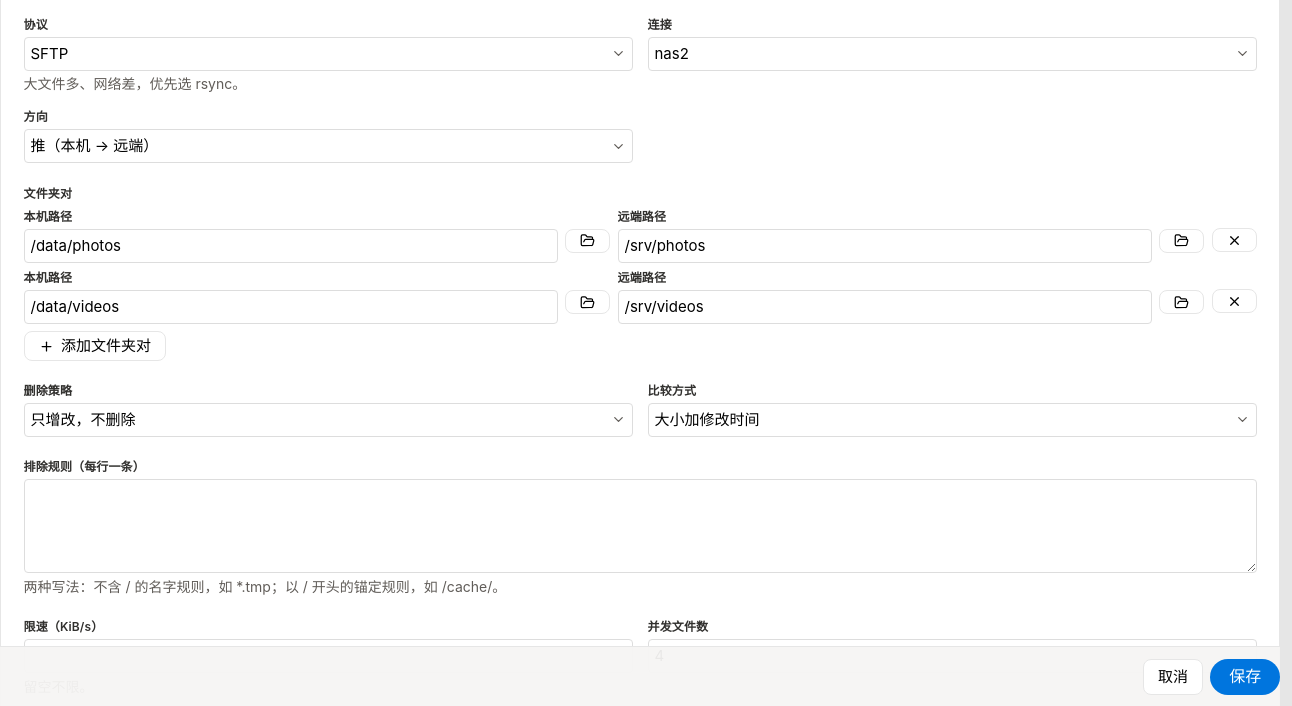
sync: folder pairs can be added and removed
(page scrolled)
Expected: the number of elements with test id "pair" is 2, [24,209,1256,263]; [24,270,1256,324]
Click the button "添加文件夹对" at (95, 346), box [24,331,166,361]
(page scrolled)
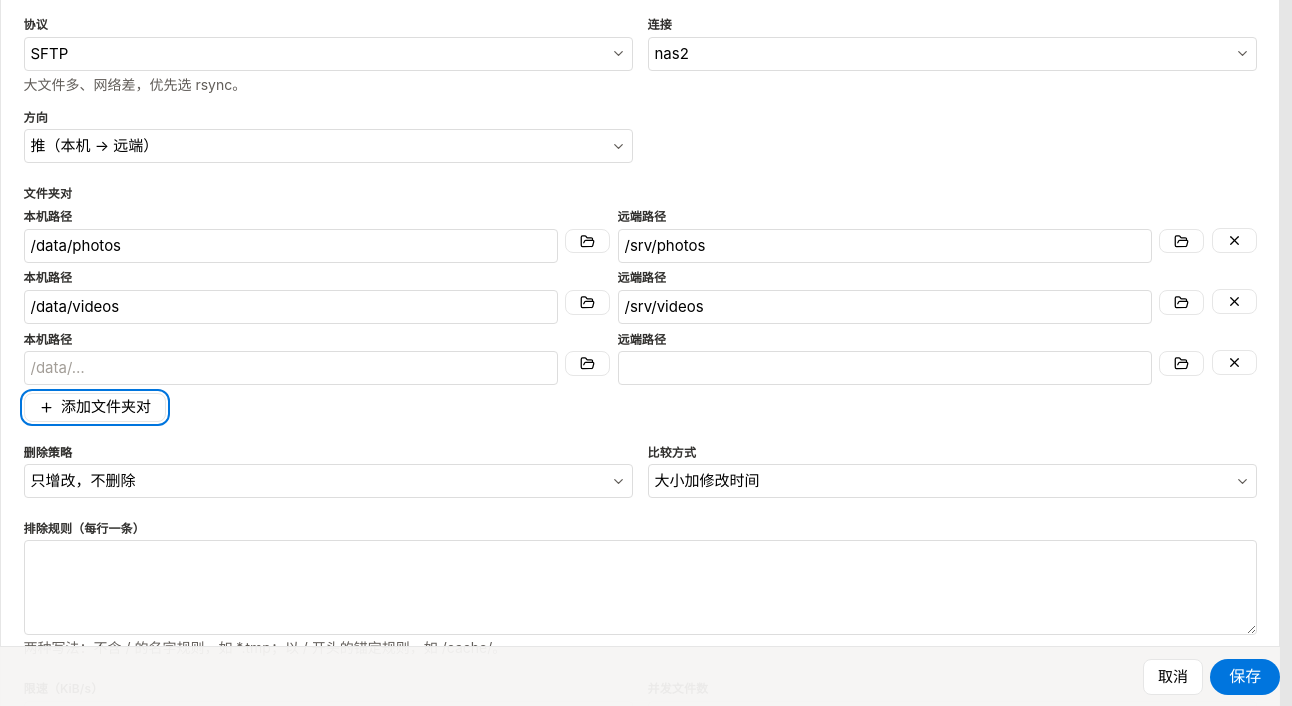
Now the number of elements with test id "pair" is 3, box [24,209,1256,263]; [24,270,1256,324]; [24,332,1256,385]
Click the 1st button named "移除" at (1234, 240), box [1212,228,1256,252]
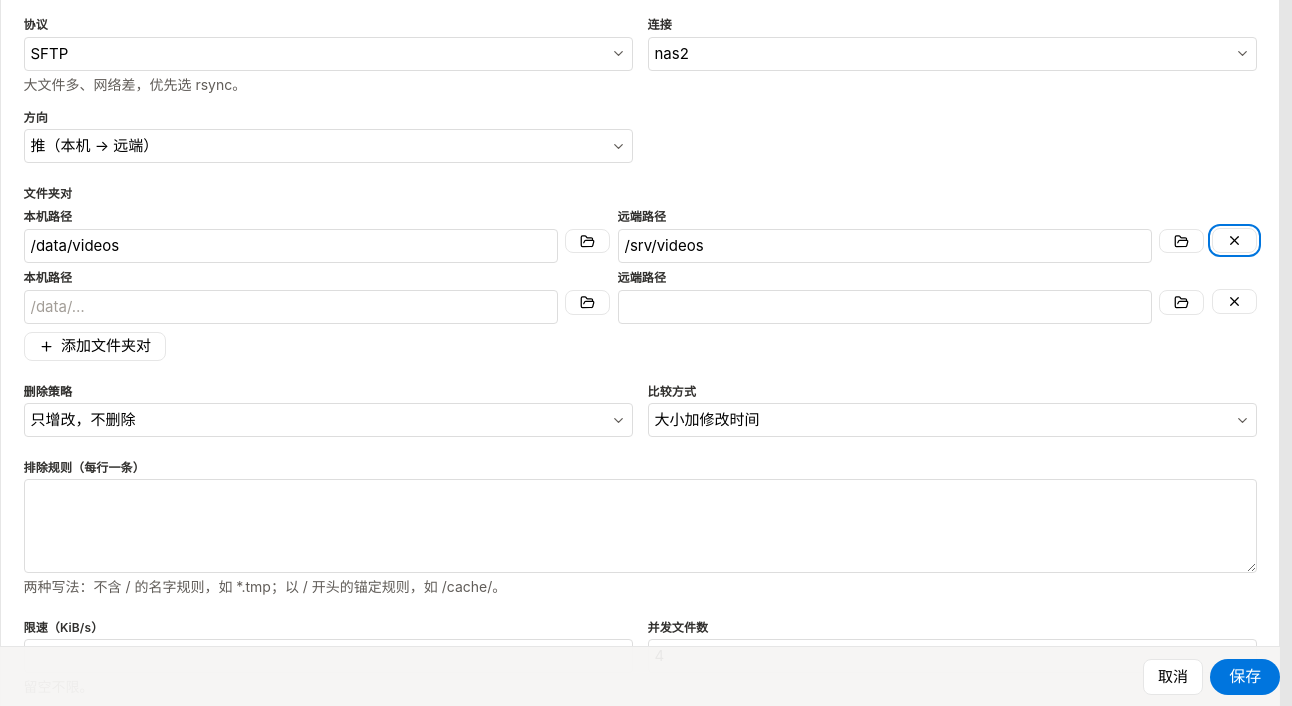
Now the number of elements with test id "pair" is 2, box [24,209,1256,263]; [24,270,1256,324]
Now the 1st field labelled "本机路径" holds "/data/videos", box [24,229,558,263]
